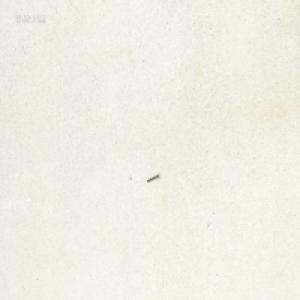Bolt: (146, 171, 159, 182)
